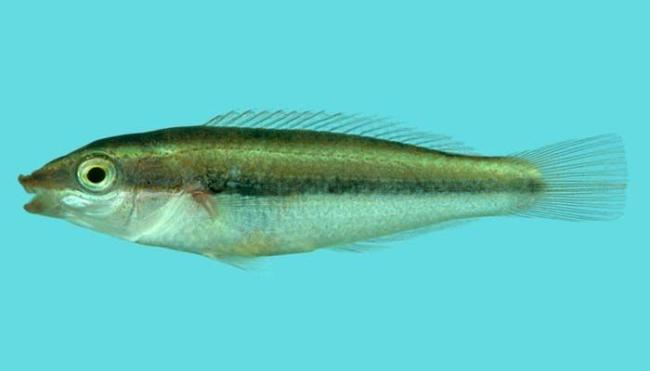fish: (18, 109, 628, 273)
